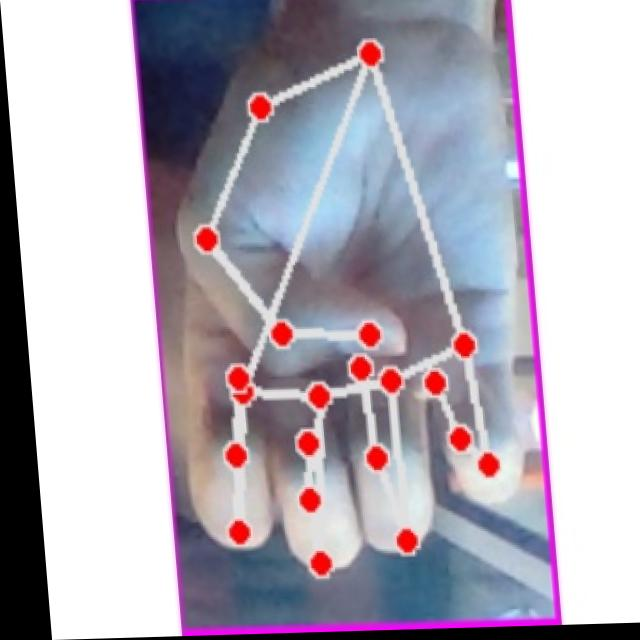E: (146, 17, 535, 614)
